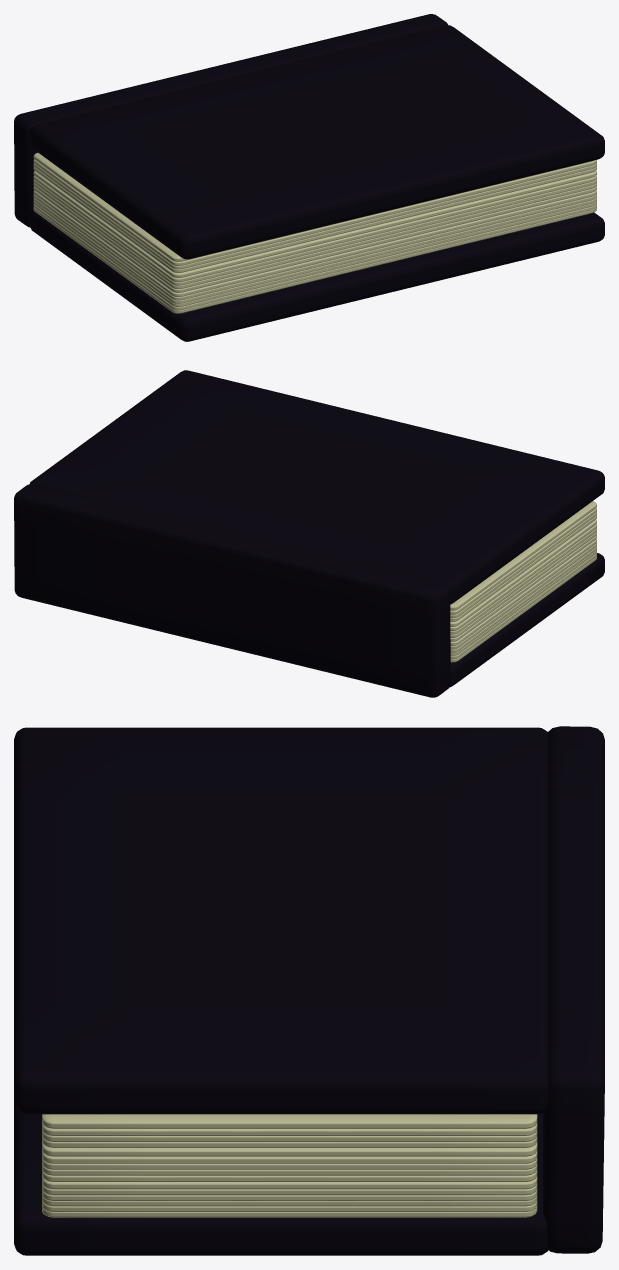
The model's file is book4.FBX.
3 views of the same model, one above another, from view 1: azimuth 30°, elevation 25°; view 2: azimuth 150°, elevation 25°; view 3: azimuth 270°, elevation 25° (orthographic). The views are drawn at different scales.
Parts seen in each view (by area): view 1: ChamferBox003, ChamferBox002, ChamferBox001, ChamferBox011, ChamferBox013, ChamferBox017, ChamferBox008, ChamferBox010, ChamferBox016, ChamferBox009, ChamferBox014, ChamferBox018 (+6 smaller); view 2: ChamferBox003, ChamferBox001, ChamferBox002, ChamferBox015, ChamferBox011, ChamferBox008, ChamferBox017, ChamferBox013, ChamferBox010, ChamferBox018, ChamferBox009, ChamferBox014 (+6 smaller); view 3: ChamferBox003, ChamferBox001, ChamferBox002, ChamferBox015, ChamferBox011, ChamferBox013, ChamferBox008, ChamferBox017, ChamferBox010, ChamferBox014, ChamferBox012, ChamferBox009 (+6 smaller).
Boxes of the visible parts, x1,y1,x2,y2 form: ChamferBox003: (30, 25, 604, 259); ChamferBox002: (30, 209, 604, 341); ChamferBox001: (14, 14, 447, 227); ChamferBox011: (33, 170, 596, 277); ChamferBox013: (33, 175, 596, 282); ChamferBox017: (33, 159, 596, 265); ChamferBox008: (33, 190, 596, 296); ChamferBox010: (33, 186, 596, 292); ChamferBox016: (33, 166, 596, 272); ChamferBox009: (33, 194, 596, 300); ChamferBox014: (33, 179, 596, 285); ChamferBox018: (33, 163, 596, 269); ChamferBox003: (30, 370, 604, 604); ChamferBox001: (14, 484, 450, 697); ChamferBox002: (449, 553, 604, 687); ChamferBox015: (450, 501, 596, 610); ChamferBox011: (450, 519, 596, 626); ChamferBox008: (450, 539, 596, 645); ChamferBox017: (450, 508, 596, 614); ChamferBox013: (450, 524, 596, 630); ChamferBox010: (450, 535, 596, 641); ChamferBox018: (450, 511, 596, 618); ChamferBox009: (450, 543, 596, 649); ChamferBox014: (450, 528, 596, 634); ChamferBox003: (14, 727, 548, 1114); ChamferBox001: (543, 726, 604, 1253); ChamferBox002: (14, 1103, 548, 1255); ChamferBox015: (42, 1114, 537, 1128); ChamferBox011: (42, 1142, 537, 1156); ChamferBox013: (42, 1150, 537, 1163); ChamferBox008: (42, 1176, 537, 1189); ChamferBox017: (42, 1123, 537, 1135); ChamferBox010: (42, 1170, 537, 1181); ChamferBox014: (42, 1158, 537, 1169); ChamferBox012: (42, 1164, 537, 1175); ChamferBox009: (42, 1183, 537, 1195).
Bounding box in the file's own units: 28.04 × 6.72 × 19.7.
